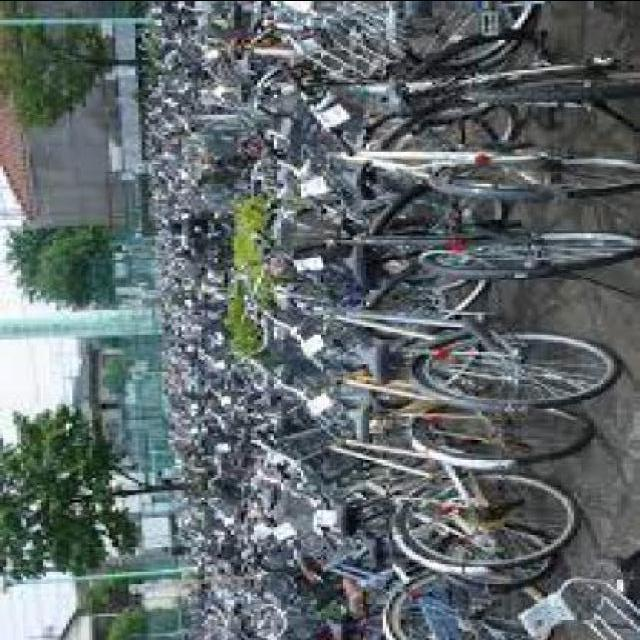bicycle: (252, 279, 629, 411), (236, 441, 590, 570), (260, 104, 634, 220), (244, 356, 601, 468), (256, 59, 636, 125), (256, 216, 630, 265)
